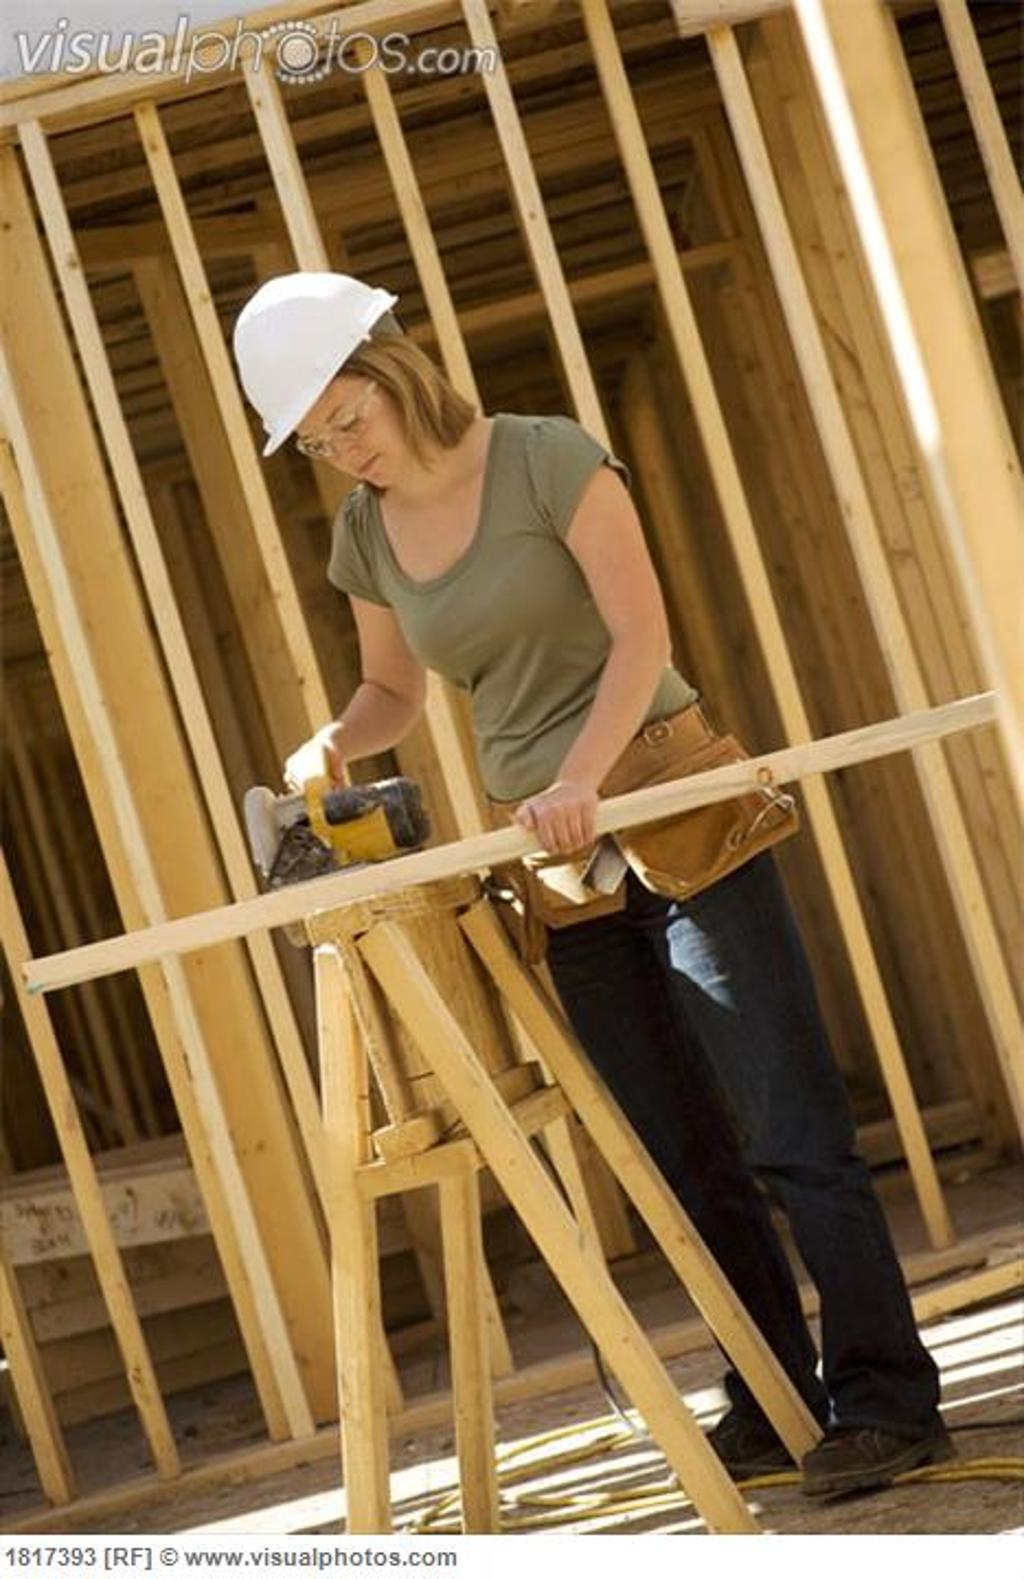face: (281, 345, 398, 490)
